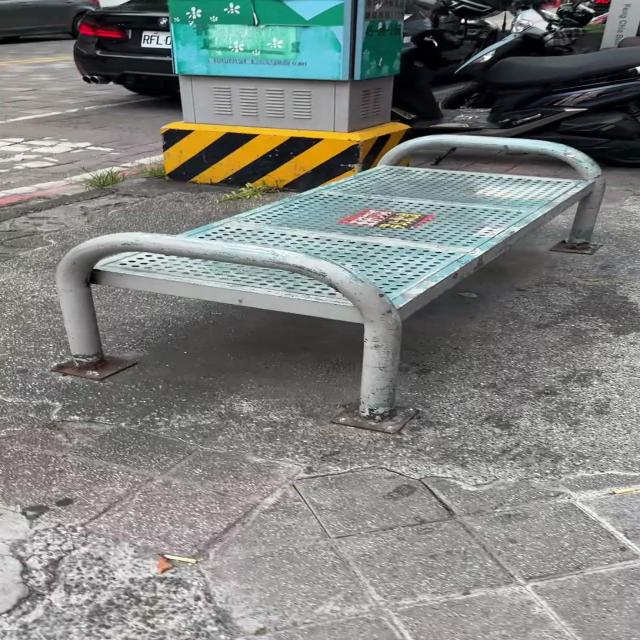car: (73, 0, 179, 96)
chair: (55, 135, 604, 432)
motocycle: (412, 46, 640, 166)
